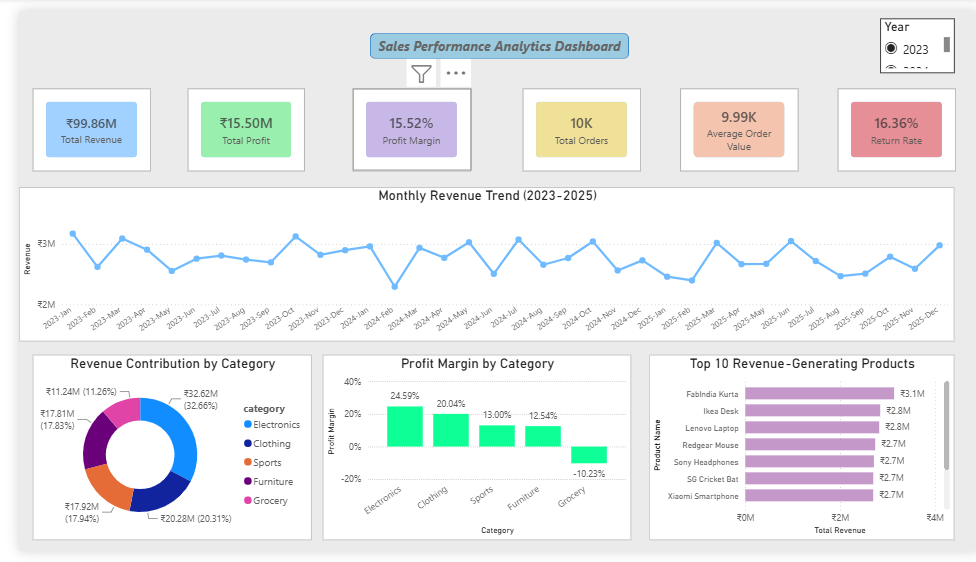

The page's visual inventory and layout, read from the dashboard file:
{"tool":"powerbi","page":{"name":"Executive Dashboard","canvas":[1280,720],"ordinal":0},"visuals":[{"type":"cardVisual","title":"Total Revenue","fields":{"Data":["orders.M_Total Revenue"]},"box":[17.5,102.5,157.5,110],"z":0},{"type":"cardVisual","title":"Total Revenue","fields":{"Data":["orders.M_Total Profit"]},"box":[225,102.5,156.2,110],"z":1000},{"type":"cardVisual","title":"Total Revenue","fields":{"Data":["orders.M_Average Order Value"]},"box":[881.2,102.5,157.5,110],"z":2000},{"type":"cardVisual","title":"Total Revenue","fields":{"Data":["orders.M_Total Orders"]},"box":[671.2,102.5,157.5,110],"z":3000},{"type":"cardVisual","title":"Total Revenue","fields":{"Data":["orders.M_Profit Margin"]},"box":[445,102.5,157.5,110],"z":4000},{"type":"cardVisual","title":"Total Revenue","fields":{"Data":["orders.M_Return Rate"]},"box":[1091.2,102.5,157.5,110],"z":5000},{"type":"shape","box":[462.5,25,355,43.8],"z":6000},{"type":"lineChart","title":"Monthly Revenue Trend (2023-2025)","fields":{"Category":["Calendar.Year-Month"],"Y":["orders.Total Revenue"]},"box":[0,234.3,1247.1,205.7],"z":7000},{"type":"donutChart","title":"Revenue Contribution by Category","fields":{"Category":["products.category"],"Y":["orders.Total Revenue"]},"box":[17.7,458.2,372.2,246.8],"z":8000},{"type":"clusteredColumnChart","fields":{"Category":["products.category"],"Y":["orders.Profit Margin"]},"box":[405.1,458.2,411.4,246.8],"z":9000},{"type":"clusteredBarChart","title":"Top 10 Revenue-Generating Products","fields":{"Category":["products.product_name"],"Y":["orders.Total Revenue"]},"box":[840.5,458.2,407.6,246.8],"z":10000},{"type":"listSlicer","fields":{"Values":["Calendar.Year"]},"box":[1147.7,10,99.6,72.5],"z":10001}]}

Visuals, with their boxes in screenshot pixels (x1, y1, x2, y2), scaled from the page's 1280x720 canvas onto the 976x562 screenshot:
"Total Revenue" cardVisual: bbox=[13, 80, 133, 166]
"Total Revenue" cardVisual: bbox=[172, 80, 291, 166]
"Total Revenue" cardVisual: bbox=[672, 80, 792, 166]
"Total Revenue" cardVisual: bbox=[512, 80, 632, 166]
"Total Revenue" cardVisual: bbox=[339, 80, 459, 166]
"Total Revenue" cardVisual: bbox=[832, 80, 952, 166]
shape: bbox=[353, 20, 623, 54]
"Monthly Revenue Trend (2023-2025)" lineChart: bbox=[0, 183, 951, 343]
"Revenue Contribution by Category" donutChart: bbox=[13, 358, 297, 550]
clusteredColumnChart - products.category x orders.Profit Margin: bbox=[309, 358, 623, 550]
"Top 10 Revenue-Generating Products" clusteredBarChart: bbox=[641, 358, 952, 550]
listSlicer - Calendar.Year: bbox=[875, 8, 951, 64]
